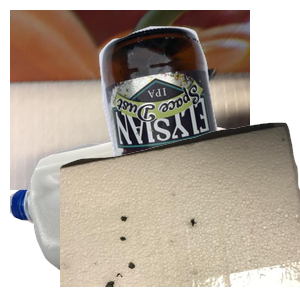cardboard: (10, 10, 250, 190)
glass: (97, 24, 300, 204)
plastic: (10, 120, 250, 300)
trash: (60, 120, 300, 300)
